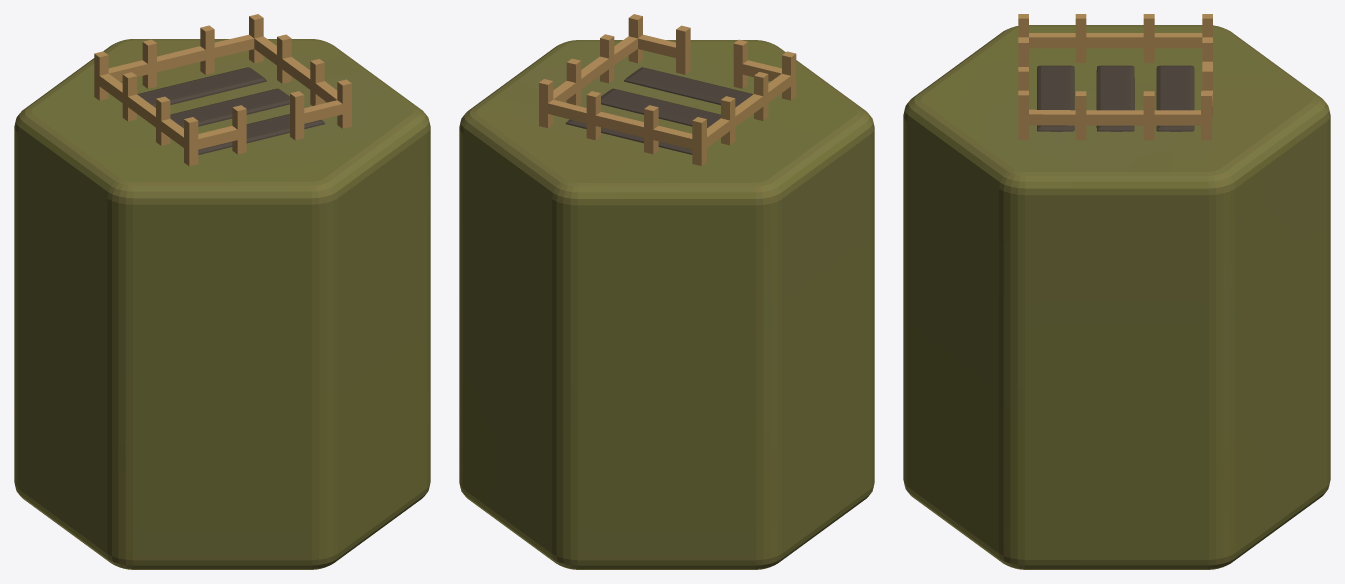
Rendered from Hex-cv.glb.
The picture shows the model from 3 angles, left to right: view 1: azimuth 30°, elevation 25°; view 2: azimuth 150°, elevation 25°; view 3: azimuth 270°, elevation 25°; orthographic projection. The views are drawn at different scales.
Visible parts, largest first — view 1: Cylinder, Cube.087_Material.001_0.001, Cube.087_Material.001_0.002; view 2: Cylinder, Cube.087_Material.001_0.001, Cube.087_Material.001_0.002; view 3: Cylinder, Cube.087_Material.001_0.001, Cube.087_Material.001_0.002.
Part boxes in pixels (x1,y1,x2,y2): Cylinder: (14,39,430,569); Cube.087_Material.001_0.001: (94,14,351,166); Cube.087_Material.001_0.002: (137,67,325,154); Cylinder: (459,40,874,569); Cube.087_Material.001_0.001: (539,14,796,165); Cube.087_Material.001_0.002: (565,67,753,154); Cylinder: (903,25,1330,569); Cube.087_Material.001_0.001: (1018,14,1212,140); Cube.087_Material.001_0.002: (1037,65,1194,131).
Bounding box in the file's own units: 1.73 × 2.22 × 1.95.
Materials: 3 (3 with a texture image).
